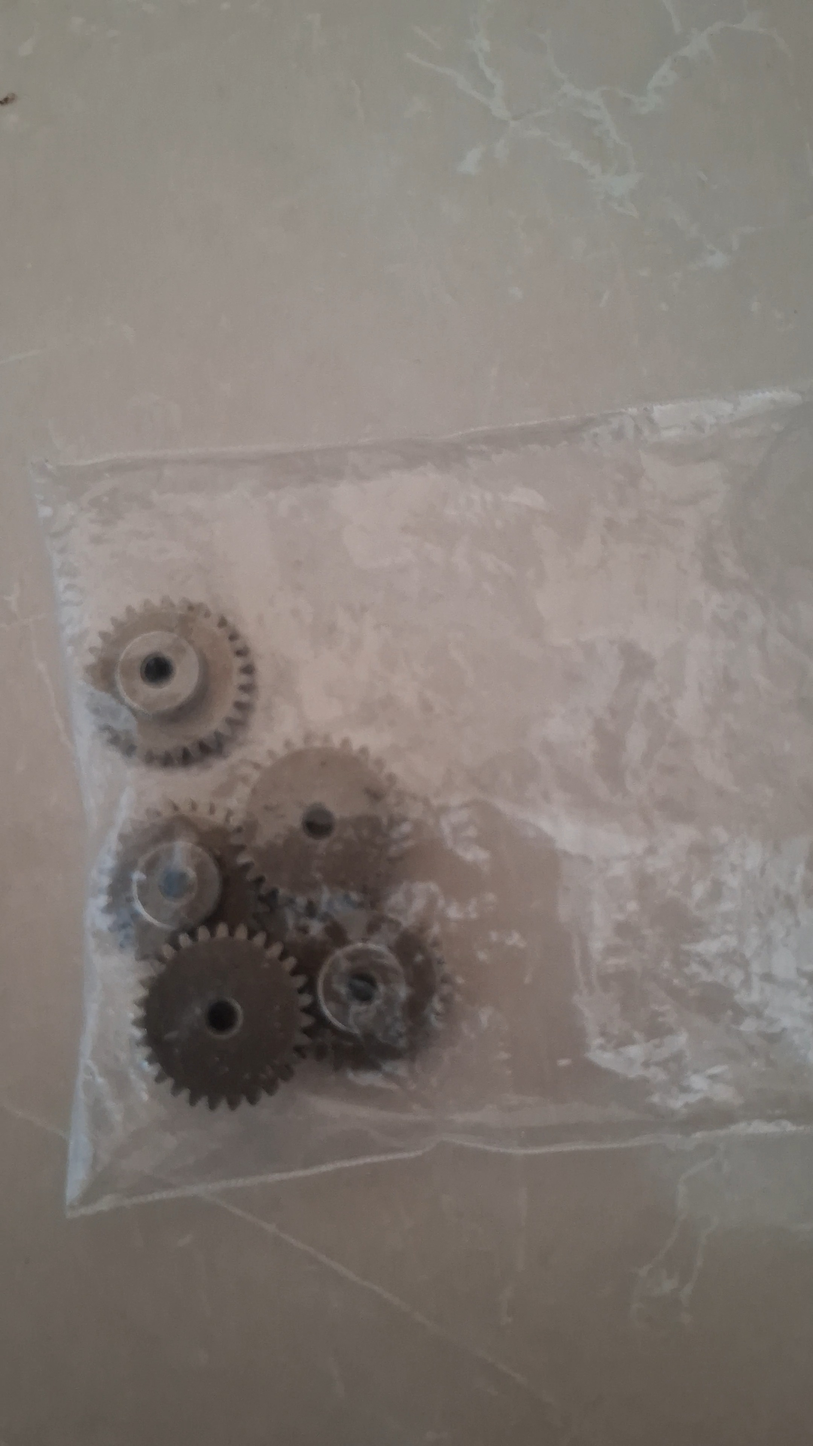spur gear: (136, 924, 312, 1109), (87, 599, 254, 765), (240, 741, 408, 902), (104, 801, 271, 958), (286, 908, 443, 1063)
